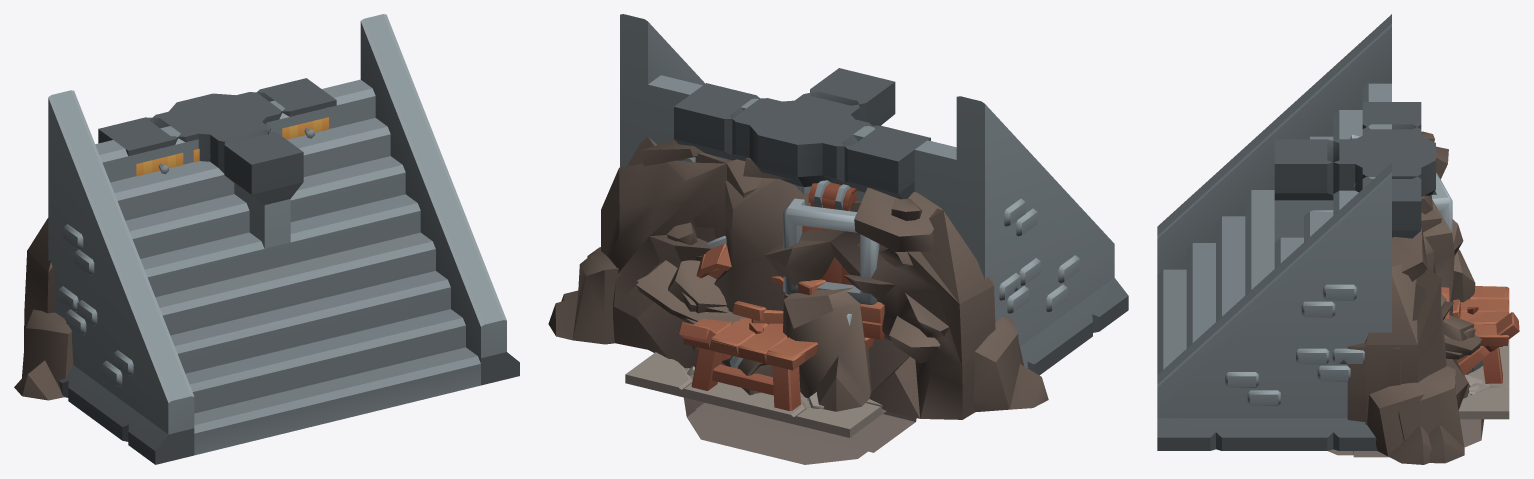
Rendered from dungeon.glb.
3 views of the same model, side by side, from view 1: azimuth 30°, elevation 25°; view 2: azimuth 150°, elevation 25°; view 3: azimuth 270°, elevation 25° (orthographic). The views are drawn at different scales.
Parts seen in each view (by area): view 1: stairs_wide, wall_corner, wall_arched, rubble_large, banner_triple_yellow, wall_pillar; view 2: rubble_large, stairs_wide, rubble_half, wall_arched, box_stacked, floor_tile_large_rocks, floor_tile_big_grate, wall_shelves, wall_corner, table_long_broken, table_long, wall_pillar (+5 smaller); view 3: stairs_wide, rubble_half, rubble_large, wall_corner, wall, wall_arched, table_long_broken, wall_pillar, floor_tile_large_rocks, pillar_decorated, table_long, wall_shelves (+4 smaller).
Boxes of the visible parts, left/top/right/bottom form: stairs_wide: left=48, top=14, right=519, bottom=464; wall_corner: left=175, top=119, right=303, bottom=248; wall_arched: left=98, top=78, right=336, bottom=156; rubble_large: left=14, top=218, right=73, bottom=400; banner_triple_yellow: left=136, top=117, right=328, bottom=176; wall_pillar: left=98, top=93, right=266, bottom=161; rubble_large: left=561, top=158, right=1048, bottom=419; stairs_wide: left=620, top=14, right=1128, bottom=375; rubble_half: left=548, top=137, right=761, bottom=368; wall_arched: left=674, top=83, right=930, bottom=198; box_stacked: left=722, top=180, right=879, bottom=395; floor_tile_large_rocks: left=625, top=352, right=882, bottom=437; floor_tile_big_grate: left=625, top=379, right=881, bottom=464; wall_shelves: left=674, top=107, right=902, bottom=199; wall_corner: left=781, top=68, right=930, bottom=201; table_long_broken: left=679, top=301, right=818, bottom=410; table_long: left=682, top=318, right=808, bottom=410; wall_pillar: left=749, top=99, right=854, bottom=194; stairs_wide: left=1157, top=14, right=1391, bottom=450; rubble_half: left=1365, top=209, right=1480, bottom=463; rubble_large: left=1347, top=131, right=1481, bottom=464; wall_corner: left=1274, top=124, right=1412, bottom=242; wall: left=1362, top=127, right=1421, bottom=238; wall_arched: left=1362, top=102, right=1421, bottom=238; table_long_broken: left=1452, top=286, right=1519, bottom=375; wall_pillar: left=1348, top=128, right=1435, bottom=196; floor_tile_large_rocks: left=1458, top=339, right=1509, bottom=412; pillar_decorated: left=1348, top=139, right=1435, bottom=170; table_long: left=1460, top=287, right=1509, bottom=383; wall_shelves: left=1362, top=125, right=1421, bottom=238.
Bounding box in the file's own units: 8.13 × 6.1 × 6.18.
Materials: 1 (1 with a texture image).
